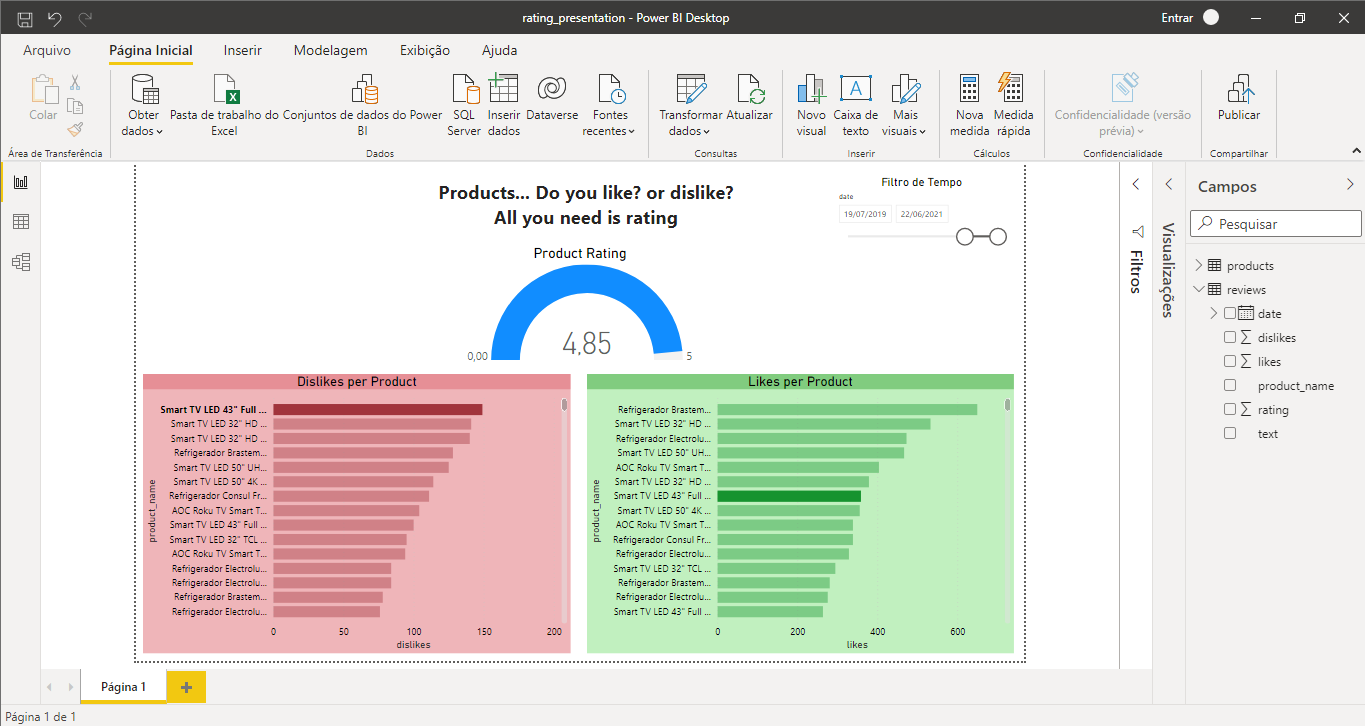

What the dashboard file says about the page in this screenshot:
{"tool":"powerbi","page":{"name":"Página 1","canvas":[1280,720],"ordinal":0},"visuals":[{"type":"slicer","title":"Filtro de Tempo","fields":{"Values":["reviews.date"]},"box":[1001.8,18.2,264.5,153.5],"z":1000},{"type":"clusteredBarChart","title":"Likes per Product","fields":{"Y":["Sum(reviews.likes)"],"Category":["reviews.product_name"]},"box":[650.6,305.6,615.7,402.9],"z":2002},{"type":"textbox","box":[410.5,18.2,478.9,92.7],"z":2003},{"type":"clusteredBarChart","title":"Dislikes per Product","fields":{"Y":["Sum(reviews.dislikes)"],"Category":["reviews.product_name"]},"box":[10.6,305.6,617.2,402.9],"z":2004},{"type":"gauge","title":"Product Rating","fields":{"Y":["Avg(reviews.rating)"],"MaxValue":["Max(reviews.rating)1"]},"box":[331.4,120.1,617.2,176.3],"z":2005}]}

Visuals, with their boxes on the page's 1280x720 design canvas (x1, y1, x2, y2). These are canvas units, not pixel positions in the 1365x726 screenshot, which may show the page scaled, cropped or inside an application window:
"Filtro de Tempo" slicer: bbox(1002, 18, 1266, 172)
"Likes per Product" clusteredBarChart: bbox(651, 306, 1266, 708)
textbox: bbox(410, 18, 889, 111)
"Dislikes per Product" clusteredBarChart: bbox(11, 306, 628, 708)
"Product Rating" gauge: bbox(331, 120, 949, 296)
